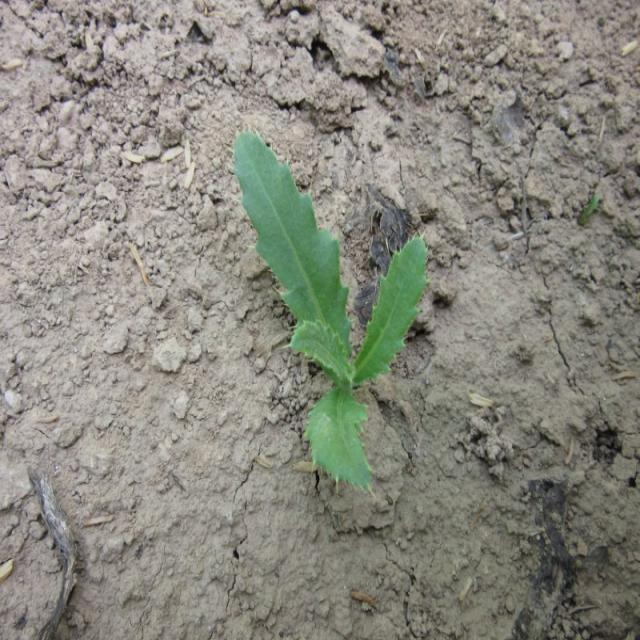field_thistle: (207, 118, 448, 500)
